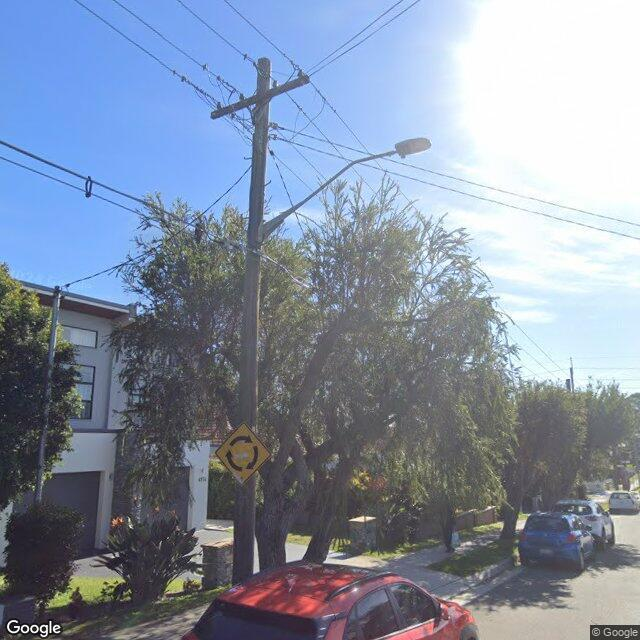crossarm: (209, 72, 312, 121)
steel-pole: (35, 287, 62, 504)
streetlight: (259, 136, 433, 243)
timber-pole: (233, 57, 271, 585)
